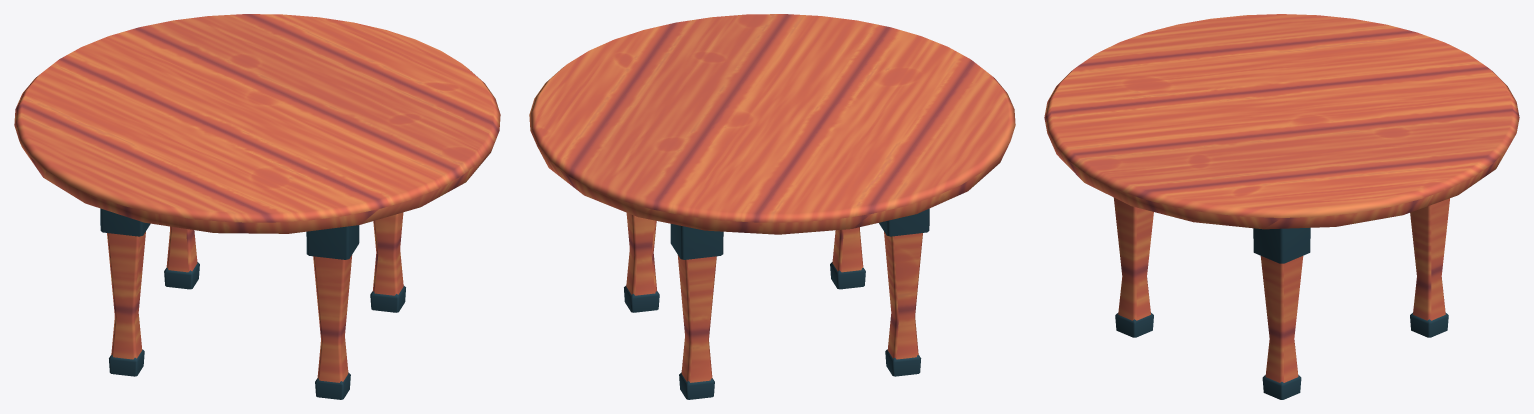
File: TableFancy.fbx
The picture shows the model from 3 angles, left to right: view 1: azimuth 30°, elevation 25°; view 2: azimuth 150°, elevation 25°; view 3: azimuth 270°, elevation 25°; orthographic projection. The views are drawn at different scales.
Parts seen in each view (by area): view 1: TableFancy; view 2: TableFancy; view 3: TableFancy.
Boxes of the visible parts, box(x1,y1,x2,y2) form: TableFancy: box(14, 14, 500, 399); TableFancy: box(529, 14, 1015, 399); TableFancy: box(1044, 14, 1519, 399).
Size of the model in its own units: 1.82 by 0.9213 by 1.82.
